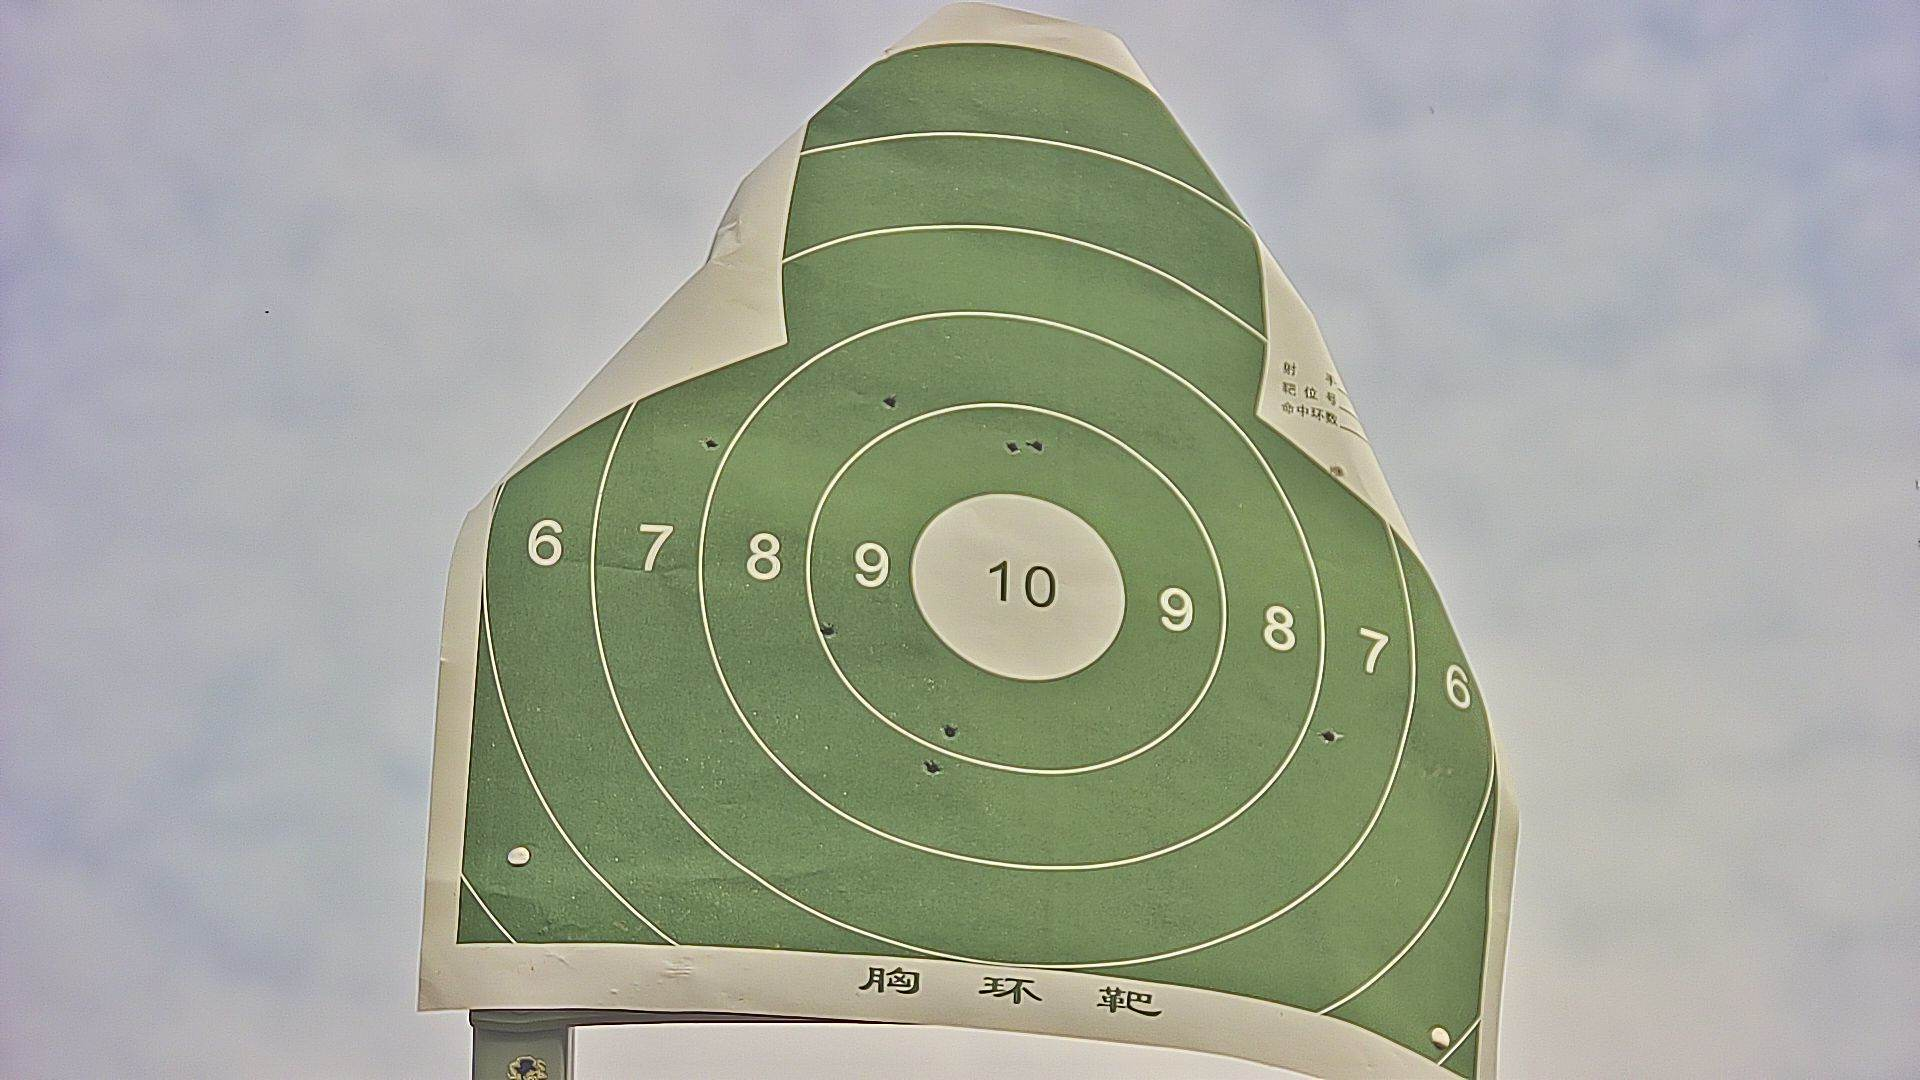.: (1329, 464, 1345, 477)
hole: (816, 622, 836, 638), (942, 723, 957, 742), (924, 757, 939, 778), (702, 436, 717, 451), (884, 396, 898, 410), (1004, 440, 1018, 455), (1323, 729, 1337, 742), (1031, 438, 1044, 450)
kernel: (1015, 585, 1019, 588)
target: (459, 47, 1486, 1080)
ten: (910, 491, 1124, 682)
